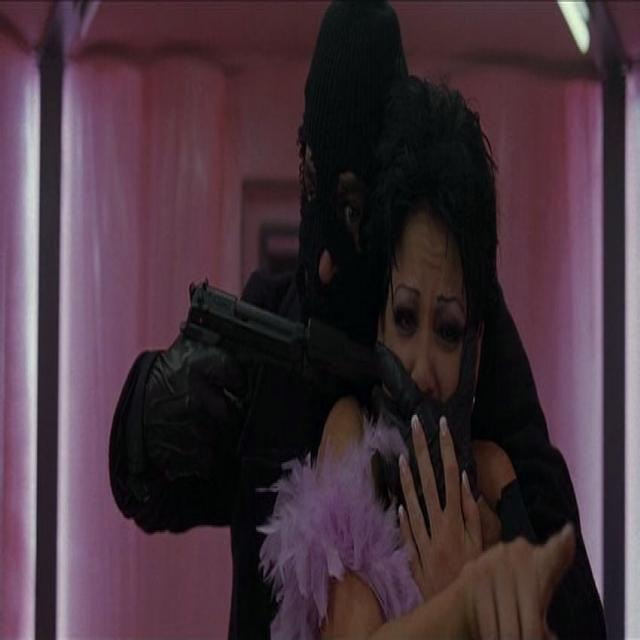gun-knife-thesis - v11 Yolov5 augmented: (170, 268, 300, 443)
